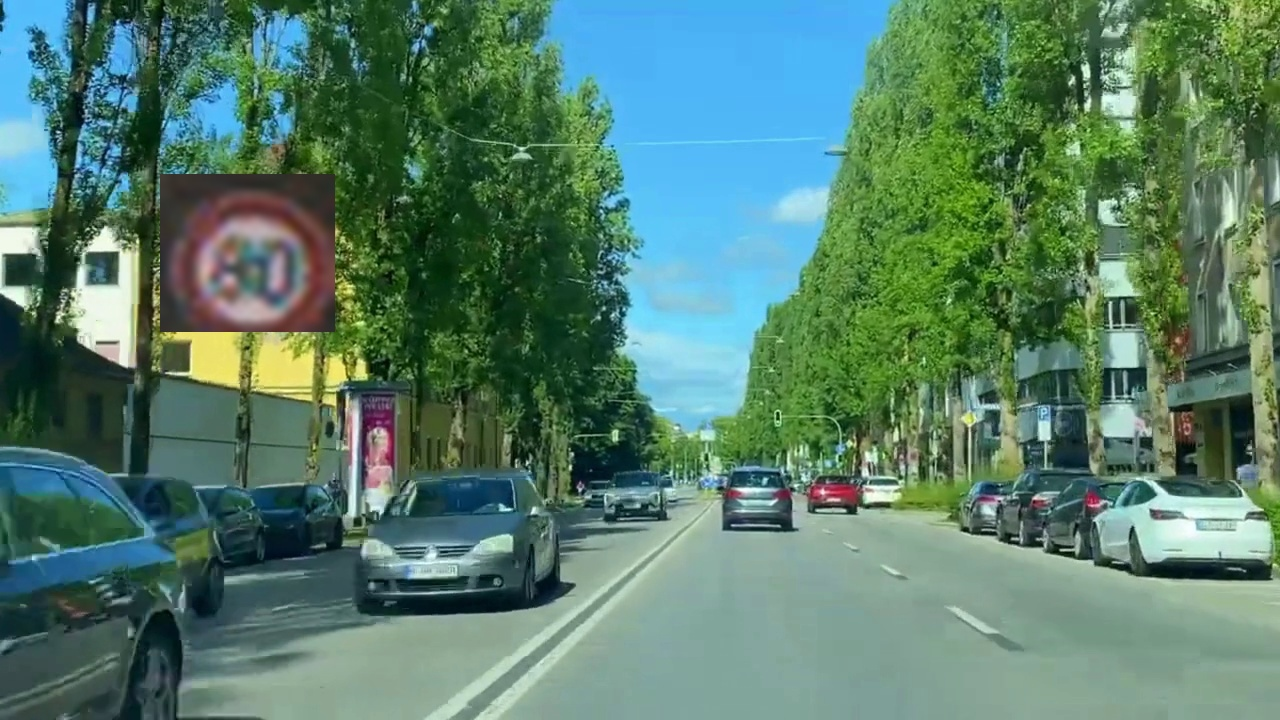Speed 80: (160, 174, 335, 332)
